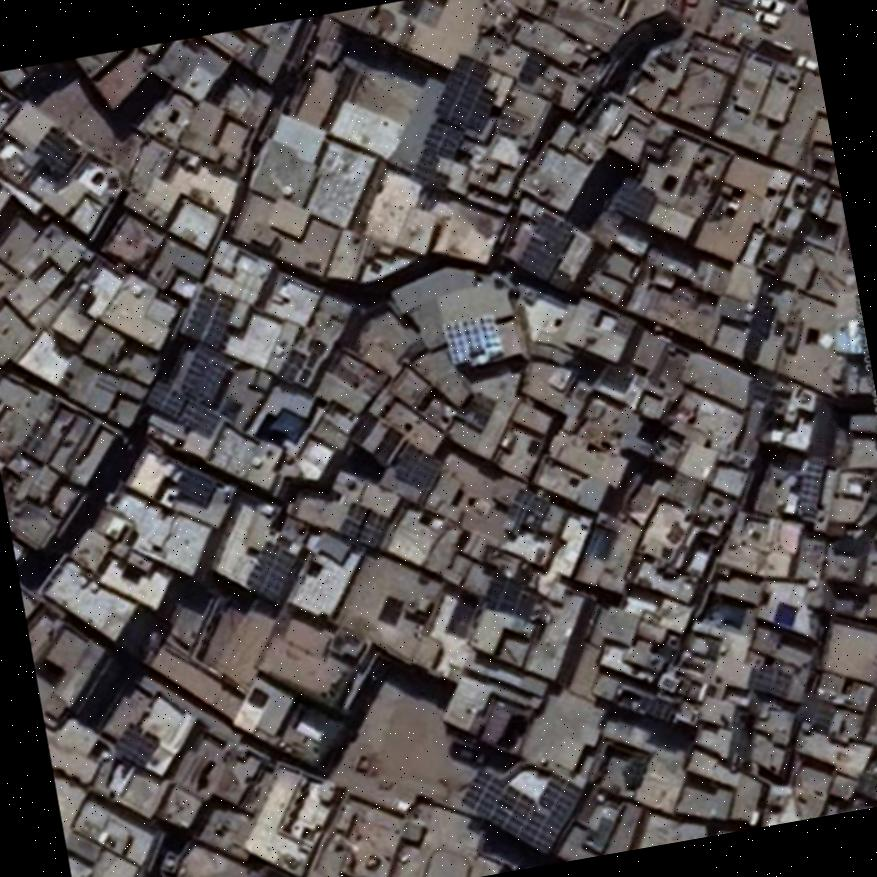Solarpanel: (461, 770, 580, 853), (145, 377, 217, 439), (433, 54, 489, 126), (515, 214, 573, 279), (182, 284, 233, 347), (445, 314, 504, 365), (247, 542, 293, 603), (179, 345, 225, 406), (338, 500, 389, 547), (32, 127, 78, 174), (114, 721, 159, 767), (390, 444, 438, 487), (422, 120, 462, 160), (615, 180, 655, 218), (175, 468, 214, 505), (798, 455, 823, 512)
